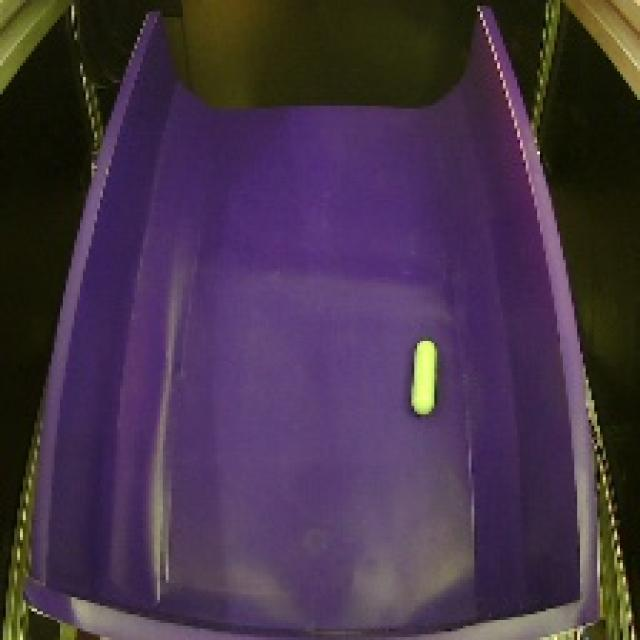small: (400, 336, 450, 424)
